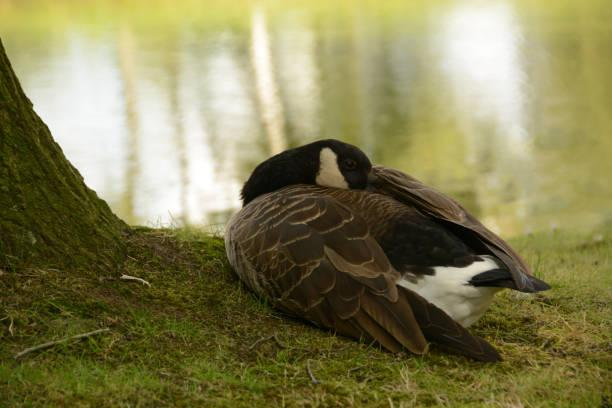Canadian-Goose: (225, 135, 539, 362)
